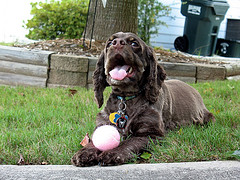tennis ball: (91, 124, 123, 150)
